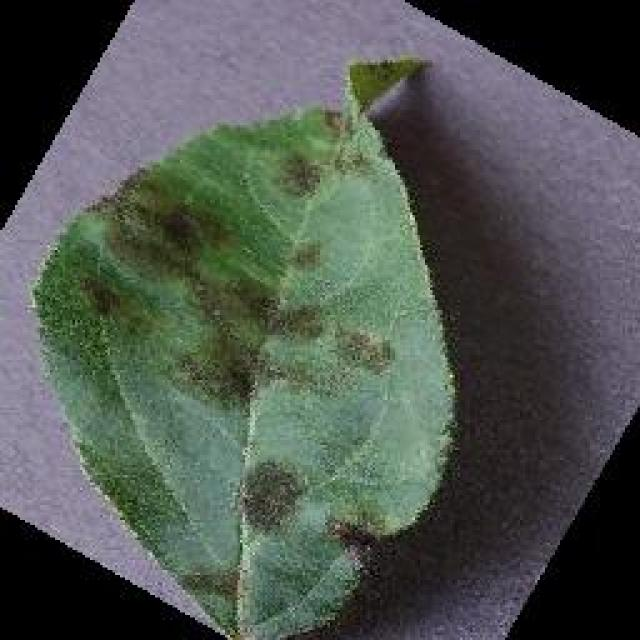apple scab disease: (27, 52, 465, 638)
